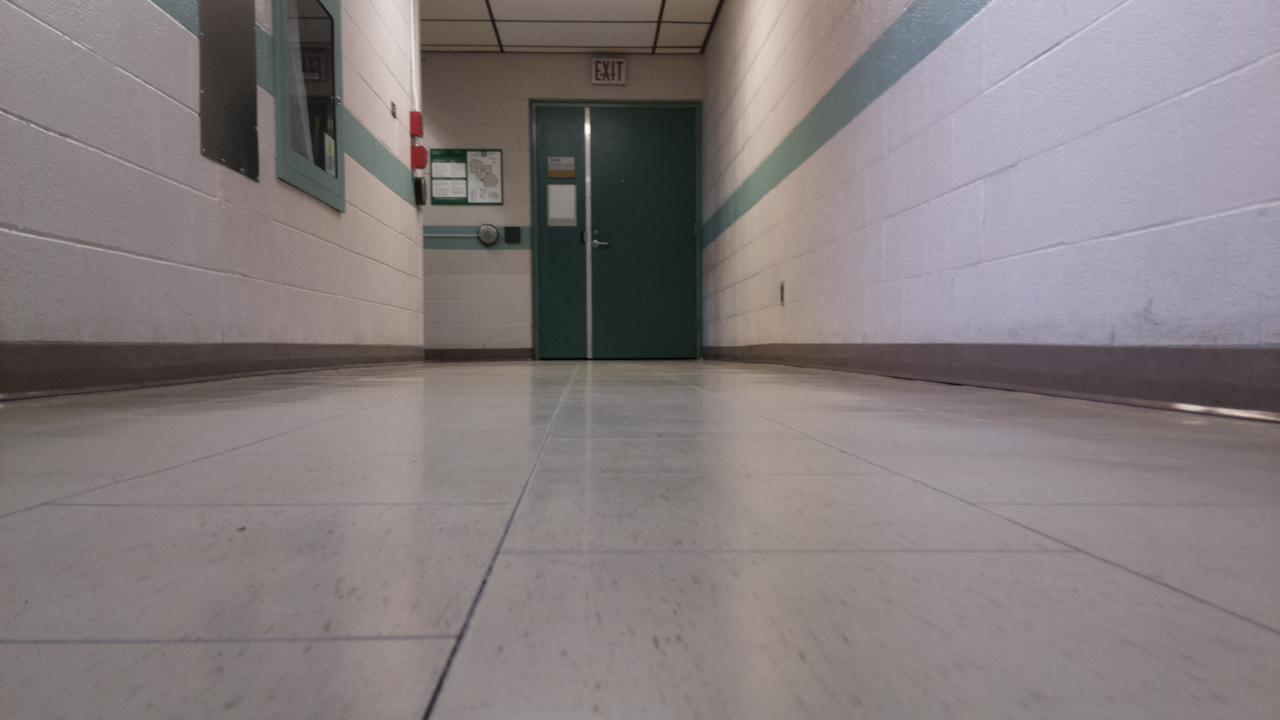door: (537, 105, 697, 359)
sign: (430, 148, 502, 204), (592, 58, 625, 83), (547, 157, 574, 176)
